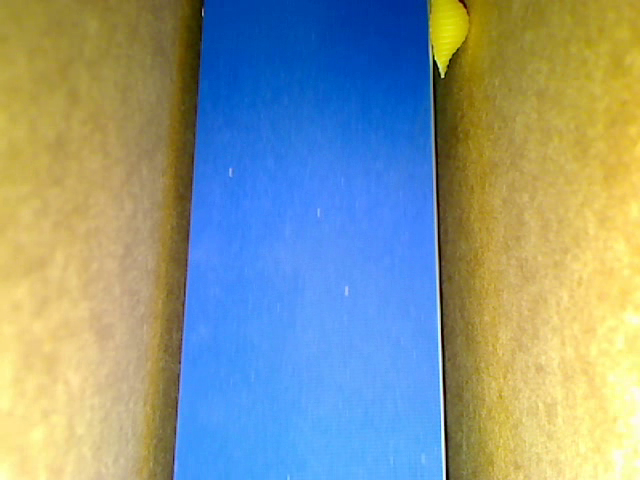shell: (428, 1, 469, 83)
